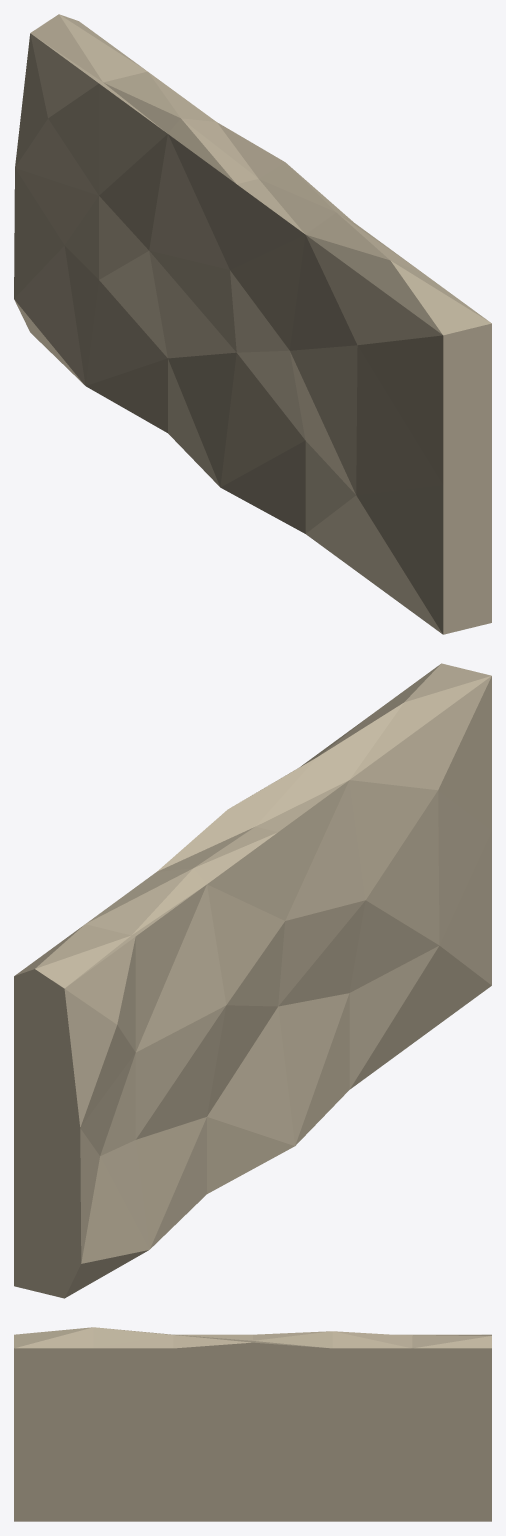
Rendered from Стена НЕ большя.FBX.
The picture shows the model from 3 angles, top to bottom: view 1: azimuth 30°, elevation 25°; view 2: azimuth 150°, elevation 25°; view 3: azimuth 270°, elevation 25°; orthographic projection. The views are drawn at different scales.
Parts seen in each view (by area): view 1: Box058; view 2: Box058; view 3: Box058.
Part boxes in pixels (left/top/right/bottom): Box058: left=14, top=14, right=491, bottom=634; Box058: left=14, top=663, right=491, bottom=1298; Box058: left=14, top=1327, right=491, bottom=1521.
Size of the model in its own units: 14.16 by 64.15 by 150.
